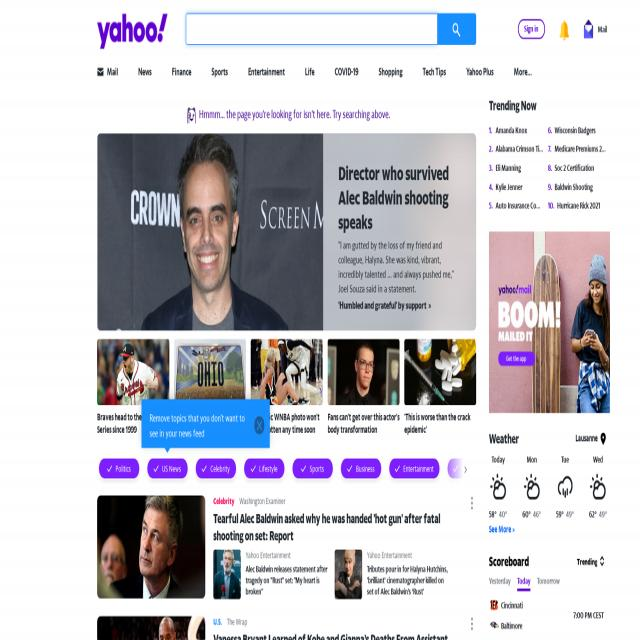button: (97, 133, 323, 331), (490, 231, 610, 414), (97, 495, 205, 598), (97, 339, 169, 405), (174, 339, 246, 405), (251, 339, 323, 405), (328, 339, 400, 405), (404, 339, 476, 405), (97, 615, 204, 640), (97, 14, 167, 48), (213, 550, 241, 599), (335, 550, 362, 599), (438, 13, 476, 45), (389, 458, 439, 478), (243, 458, 286, 479), (98, 458, 140, 479), (196, 458, 237, 479), (146, 458, 188, 478), (292, 458, 333, 478), (341, 458, 381, 478), (499, 351, 536, 366), (583, 20, 609, 40), (556, 17, 573, 46), (518, 20, 545, 38), (489, 575, 511, 592), (537, 575, 559, 592), (517, 575, 531, 592), (254, 416, 264, 435), (489, 597, 499, 614), (489, 618, 499, 633), (468, 495, 476, 510), (468, 617, 476, 631), (462, 464, 469, 476), (97, 66, 104, 78)
field: (186, 13, 438, 45)
